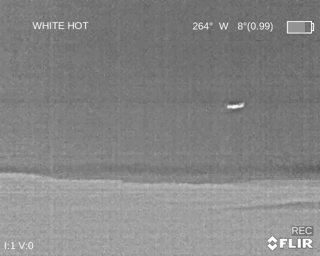AIRPLANE: (226, 101, 244, 110)
